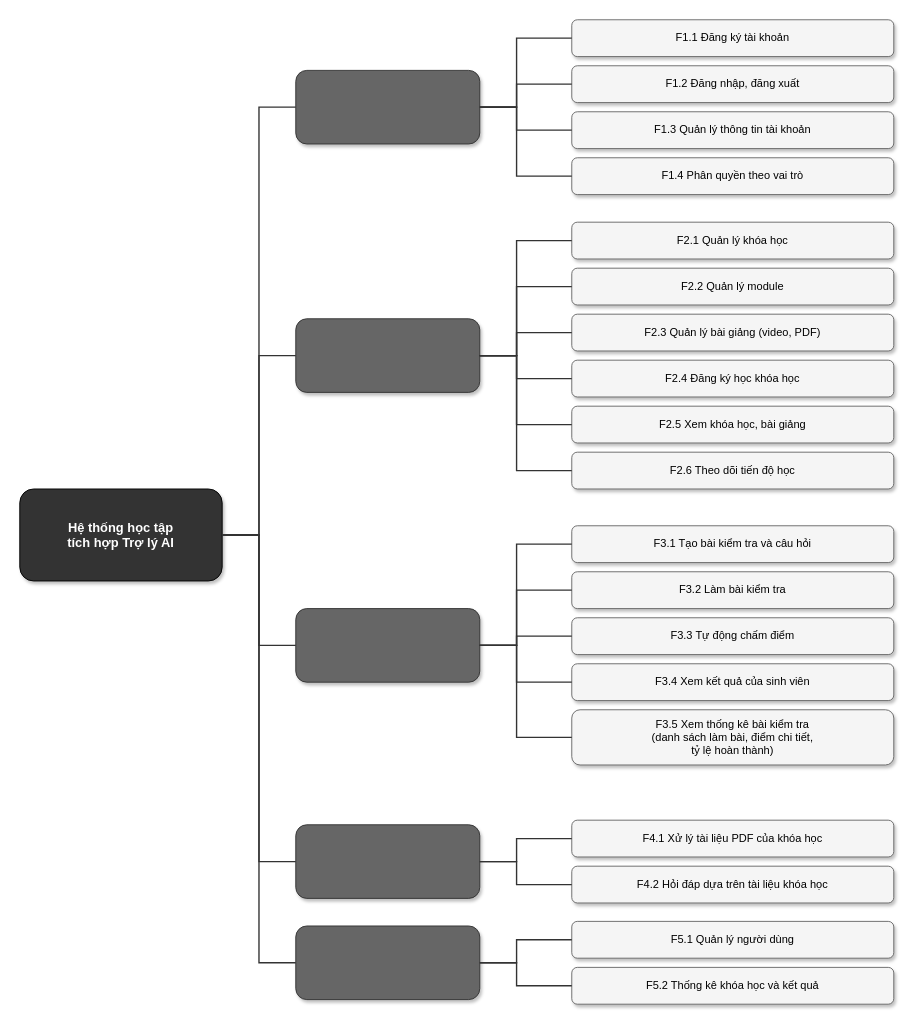
Image size: 915x1027. Some labels were removed from this diagram. The shapes that lost their labels are listed below. From the top down, each one's centre as x and y in pixels, then its label:
At (388,108): "F1. Người dùng và phân quyền".
At (388,356): "F2. Quản lý khóa học".
At (388,646): "F3. Kiểm tra trắc nghiệm".
At (388,862): "F4. Trợ lý AI".
At (388,963): "F5. Quản trị và thống kê".
